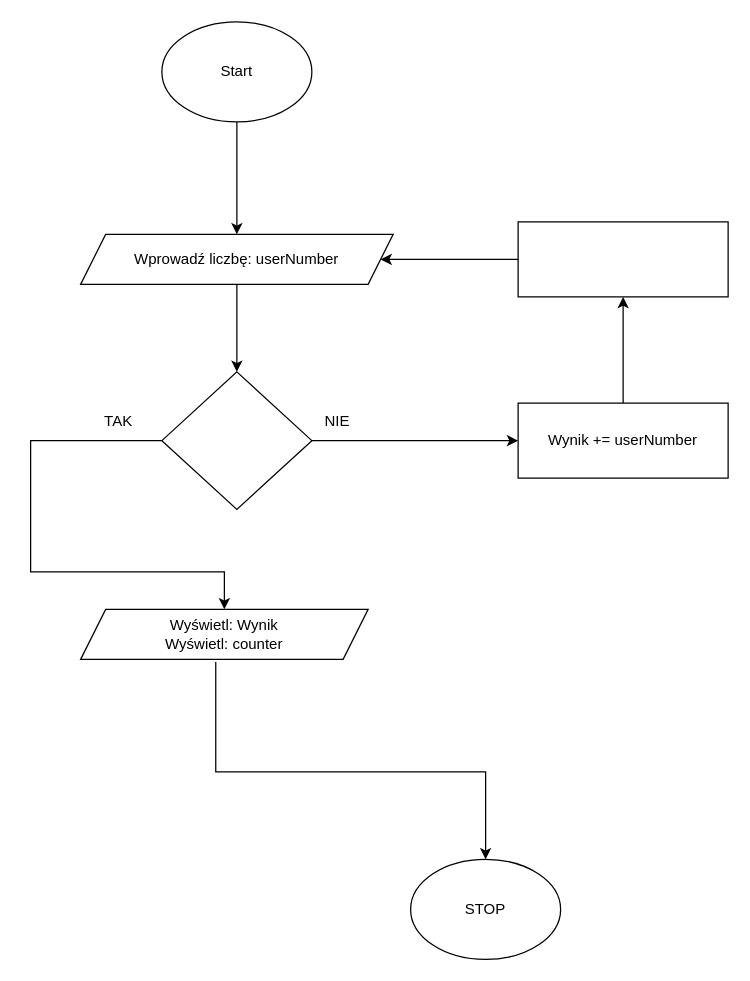
This 750x981 diagram has some shape labels left out. Each missing label, with the box of its shape:
counter++: (517, 221, 728, 297)
userNumber = 0: (161, 371, 312, 509)
